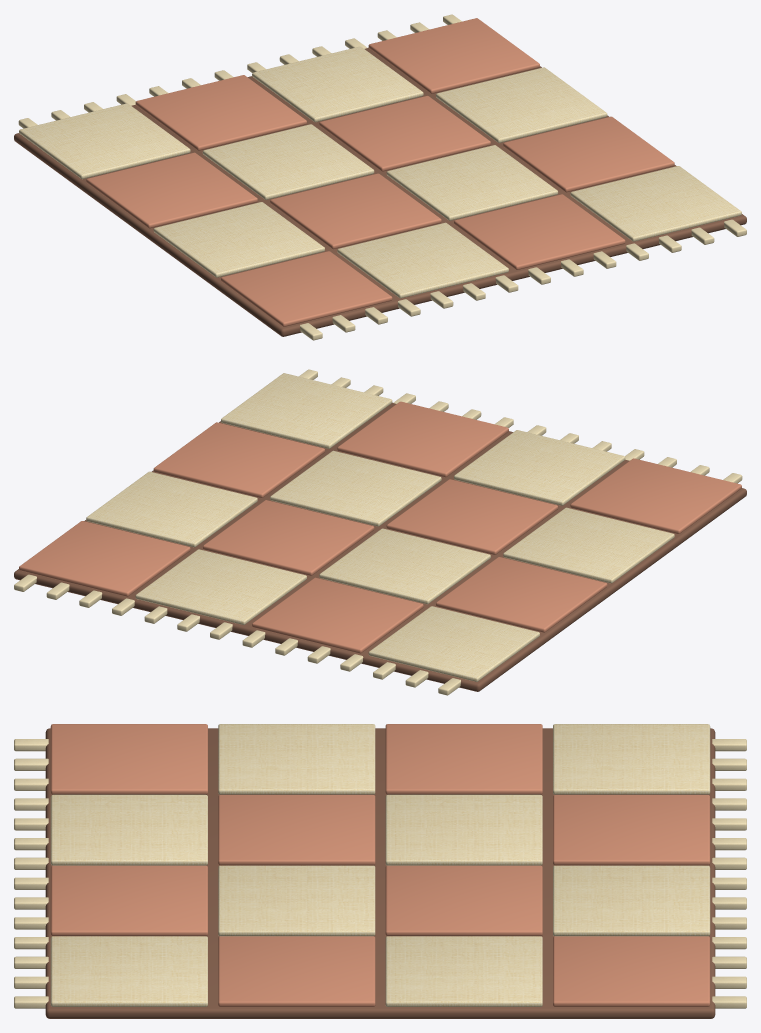
File: checker-rug.glb
3 views of the same model, one above another, from view 1: azimuth 30°, elevation 25°; view 2: azimuth 150°, elevation 25°; view 3: azimuth 270°, elevation 25° (orthographic). The views are drawn at different scales.
Visible parts, largest first — view 1: checker-rug; view 2: checker-rug; view 3: checker-rug.
Boxes of the visible parts, left/top/right/bottom form: checker-rug: left=14, top=14, right=746, bottom=340; checker-rug: left=14, top=369, right=746, bottom=695; checker-rug: left=14, top=724, right=746, bottom=1018.
Bounding box in the file's own units: 1.5 × 0.0395 × 1.64.
Materials: 3 (1 with a texture image).
